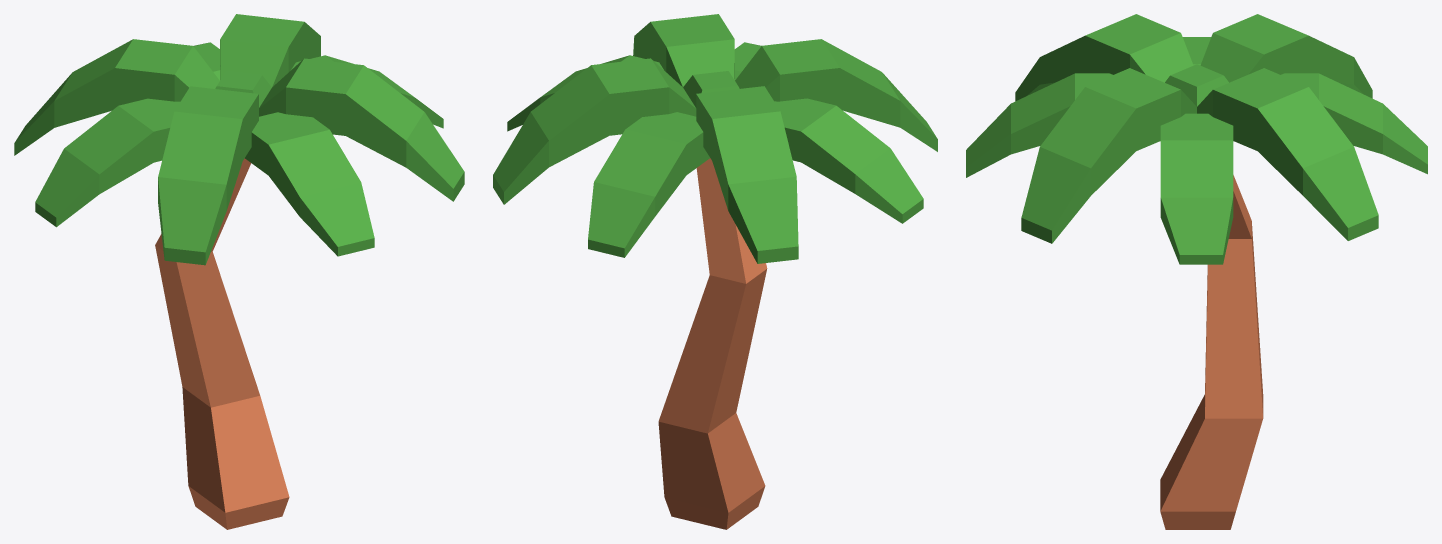
Rendered from tree_palmDetailedShort.glb.
3 renders of one model, left to right at view 1: azimuth 30°, elevation 25°; view 2: azimuth 150°, elevation 25°; view 3: azimuth 270°, elevation 25°, orthographic. The views are drawn at different scales.
Parts seen in each view (by area): view 1: leafs (×2), tree_palmDetailedShort; view 2: leafs (×2), tree_palmDetailedShort; view 3: leafs (×2), tree_palmDetailedShort.
Part boxes in pixels (x1,y1,x2,y2): leafs (×2): (14,14,464,265); tree_palmDetailedShort: (155,158,289,529); leafs (×2): (493,14,937,263); tree_palmDetailedShort: (658,158,767,529); leafs (×2): (966,14,1427,264); tree_palmDetailedShort: (1160,175,1263,529).
Size of the model in its own units: 1.03 by 1.12 by 1.03.
